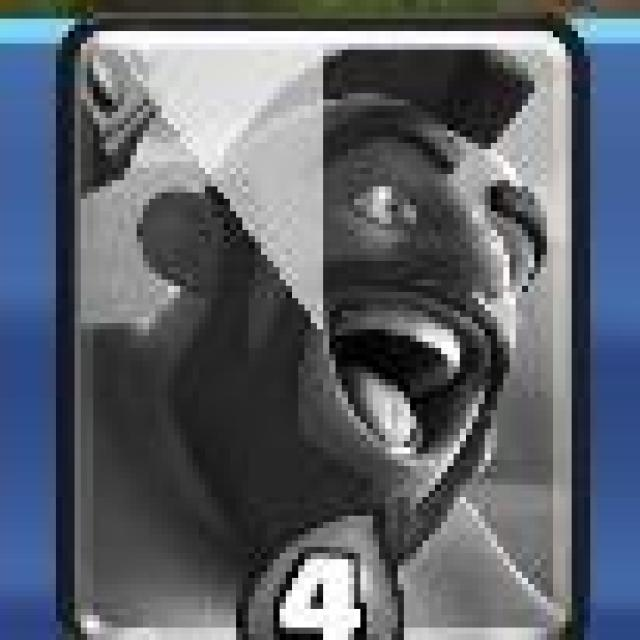Hog_Rider: (62, 18, 592, 640)
